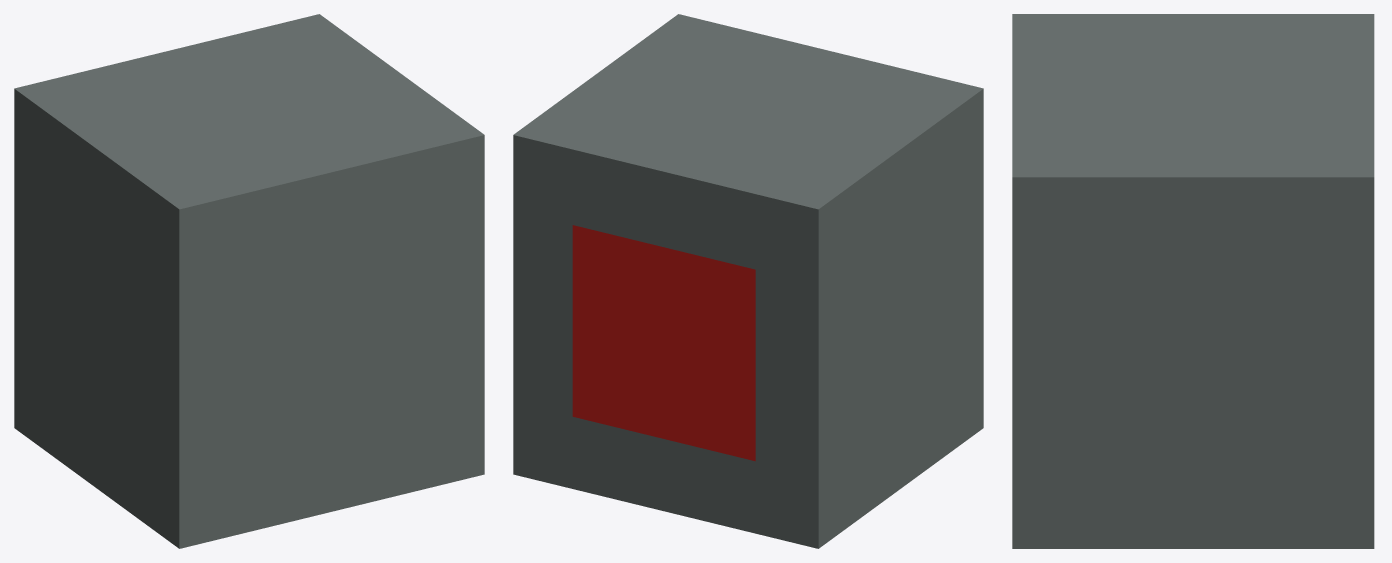
The picture shows the model from 3 angles, left to right: view 1: azimuth 30°, elevation 25°; view 2: azimuth 150°, elevation 25°; view 3: azimuth 270°, elevation 25°; orthographic projection. The views are drawn at different scales.
Visible parts, largest first — view 1: mount; view 2: mount; view 3: mount.
Boxes of the visible parts, bbox=[...] form: mount: bbox=[14, 14, 484, 548]; mount: bbox=[513, 14, 983, 548]; mount: bbox=[1012, 14, 1374, 548].
Size of the model in its own units: 3.2 by 3.4 by 3.03.
